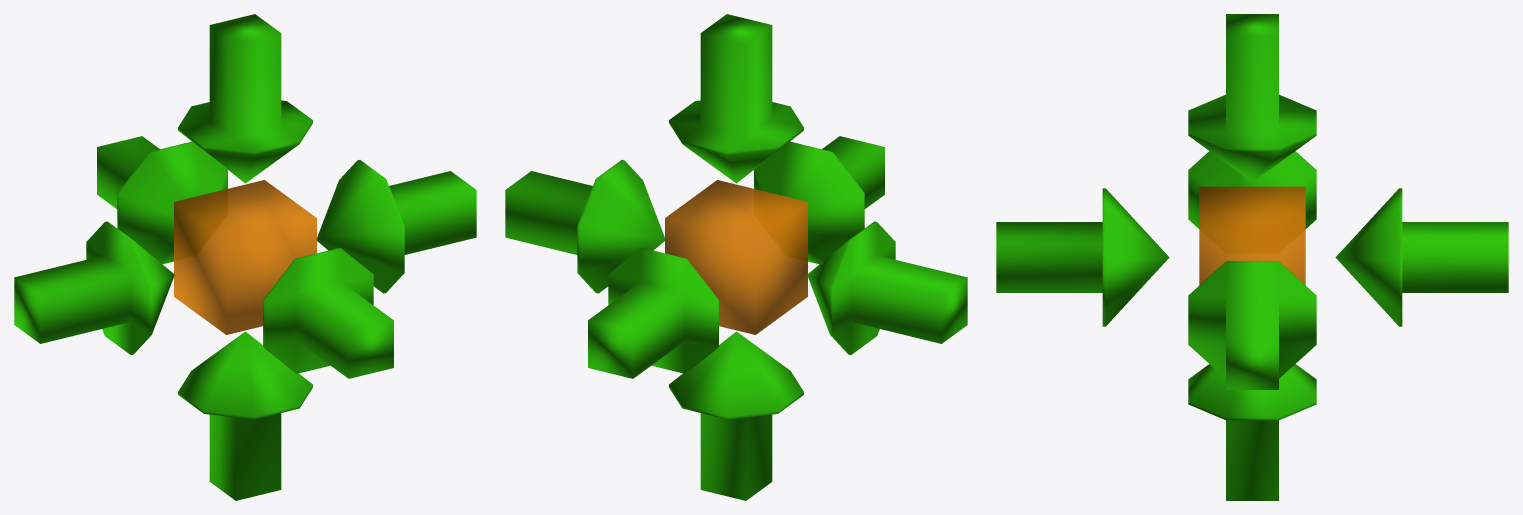
The model's file is ShapeDrop_FinalAssets-ShrinkPowerUp-Final-Optimized.fbx.
3 renders of one model, left to right at view 1: azimuth 30°, elevation 25°; view 2: azimuth 150°, elevation 25°; view 3: azimuth 270°, elevation 25°, orthographic.
Parts seen in each view (by area): view 1: ShrinkCube, ShrinkArrow.003, ShrinkArrow, ShrinkArrow.001, ShrinkArrow.004, ShrinkArrow.002, ShrinkArrow.005; view 2: ShrinkCube, ShrinkArrow.003, ShrinkArrow.005, ShrinkArrow.001, ShrinkArrow.004, ShrinkArrow.002, ShrinkArrow; view 3: ShrinkArrow.002, ShrinkArrow, ShrinkArrow.005, ShrinkArrow.003, ShrinkArrow.001, ShrinkCube, ShrinkArrow.004.
Part boxes in pixels (left/top/right/bottom): ShrinkCube: left=174, top=180, right=316, bottom=334; ShrinkArrow.003: left=178, top=14, right=312, bottom=183; ShrinkArrow: left=263, top=248, right=393, bottom=378; ShrinkArrow.001: left=178, top=331, right=312, bottom=500; ShrinkArrow.004: left=14, top=221, right=174, bottom=354; ShrinkArrow.002: left=317, top=160, right=476, bottom=293; ShrinkArrow.005: left=97, top=136, right=227, bottom=264; ShrinkCube: left=665, top=180, right=807, bottom=334; ShrinkArrow.003: left=669, top=14, right=803, bottom=183; ShrinkArrow.005: left=588, top=248, right=718, bottom=378; ShrinkArrow.001: left=669, top=331, right=803, bottom=500; ShrinkArrow.004: left=807, top=221, right=967, bottom=354; ShrinkArrow.002: left=505, top=160, right=664, bottom=293; ShrinkArrow: left=754, top=136, right=884, bottom=264; ShrinkArrow.002: left=1188, top=261, right=1316, bottom=389; ShrinkArrow: left=996, top=188, right=1169, bottom=326; ShrinkArrow.005: left=1335, top=188, right=1508, bottom=326; ShrinkArrow.003: left=1188, top=14, right=1316, bottom=181; ShrinkArrow.001: left=1188, top=364, right=1316, bottom=500; ShrinkCube: left=1199, top=186, right=1305, bottom=284; ShrinkArrow.004: left=1188, top=151, right=1316, bottom=228.
Bounding box in the file's own units: 96.32 × 96.32 × 96.32.
